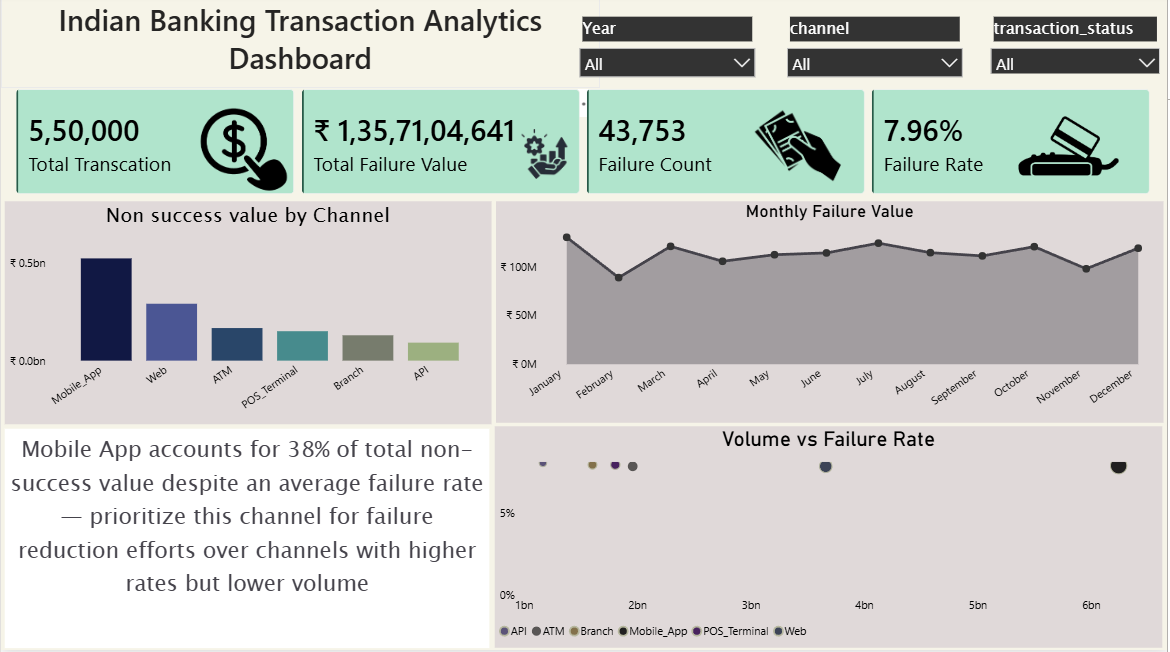

The dashboard page shown, as its layout file describes it:
{"tool":"powerbi","page":{"name":"Channel and Transcation Status","canvas":[1280,720],"ordinal":1},"visuals":[{"type":"textbox","box":[0,0,657.1,101.2],"z":0},{"type":"slicer","fields":{"Values":["Date_calendar.transaction_date.Variation.Date Hierarchy.Year"]},"box":[627.1,20.6,208.6,82.3],"z":1000},{"type":"slicer","fields":{"Values":["indian_banking_transactions.channel"]},"box":[854.9,20.6,208.6,81],"z":2000},{"type":"slicer","fields":{"Values":["indian_banking_transactions.transaction_status"]},"box":[1078.6,20.6,201.7,65.9],"z":3000},{"type":"cardVisual","fields":{"Data":["indian_banking_transactions.Total_Transcation","indian_banking_transactions.Total_Failure_Value","indian_banking_transactions.Failure_Count","indian_banking_transactions.Failure_Rate"]},"box":[0,86.9,1280,149.7],"z":4000},{"type":"image","box":[496,112.6,202.4,124],"z":5000},{"type":"image","box":[176.7,122.6,179.6,95.5],"z":6000},{"type":"image","box":[1113.2,112.6,118.3,105.5],"z":7000},{"type":"image","box":[742.6,102.6,265.1,135.4],"z":8000},{"type":"columnChart","title":"Non success value by Channel","fields":{"Category":["indian_banking_transactions.channel"],"Y":["indian_banking_transactions.Total_Failure_Value"]},"box":[4,226,534,245.2],"z":9000},{"type":"tableEx","fields":{"Values":["indian_banking_transactions.channel","indian_banking_transactions.Total_Transcation","indian_banking_transactions.Total_value"]},"box":[610.1,297.9,530.2,122.6],"z":10000},{"type":"areaChart","title":"Monthly Failure Value","fields":{"Category":["Date_calendar.transaction_date.Variation.Date Hierarchy.Month"],"Y":["indian_banking_transactions.Total_Failure_Value"]},"box":[543,227,733,243],"z":11000},{"type":"scatterChart","title":"Volume vs Failure Rate","fields":{"Y":["indian_banking_transactions.Failure_Rate"],"X":["indian_banking_transactions.Total_value"],"Size":["indian_banking_transactions.Total_Failure_Value"],"Series":["indian_banking_transactions.channel"]},"box":[541.6,474,733,243],"z":12000},{"type":"textbox","box":[4,476,532,241],"z":13000}]}

Visuals, with their boxes in screenshot pixels (x1, y1, x2, y2), scaled from the page's 1280x720 canvas onto the 1170x652 screenshot:
textbox: rect(0, 0, 601, 92)
slicer - Date_calendar.transaction_date.Variation.Date Hierarchy.Year: rect(573, 19, 764, 93)
slicer - indian_banking_transactions.channel: rect(781, 19, 972, 92)
slicer - indian_banking_transactions.transaction_status: rect(986, 19, 1169, 78)
cardVisual - indian_banking_transactions.Total_Transcation x indian_banking_transactions.Total_Failure_Value: rect(0, 79, 1169, 214)
image: rect(453, 102, 638, 214)
image: rect(162, 111, 326, 198)
image: rect(1018, 102, 1126, 198)
image: rect(679, 93, 921, 216)
"Non success value by Channel" columnChart: rect(4, 205, 492, 427)
tableEx - indian_banking_transactions.channel x indian_banking_transactions.Total_Transcation: rect(558, 270, 1042, 381)
"Monthly Failure Value" areaChart: rect(496, 206, 1166, 426)
"Volume vs Failure Rate" scatterChart: rect(495, 429, 1165, 649)
textbox: rect(4, 431, 490, 649)
